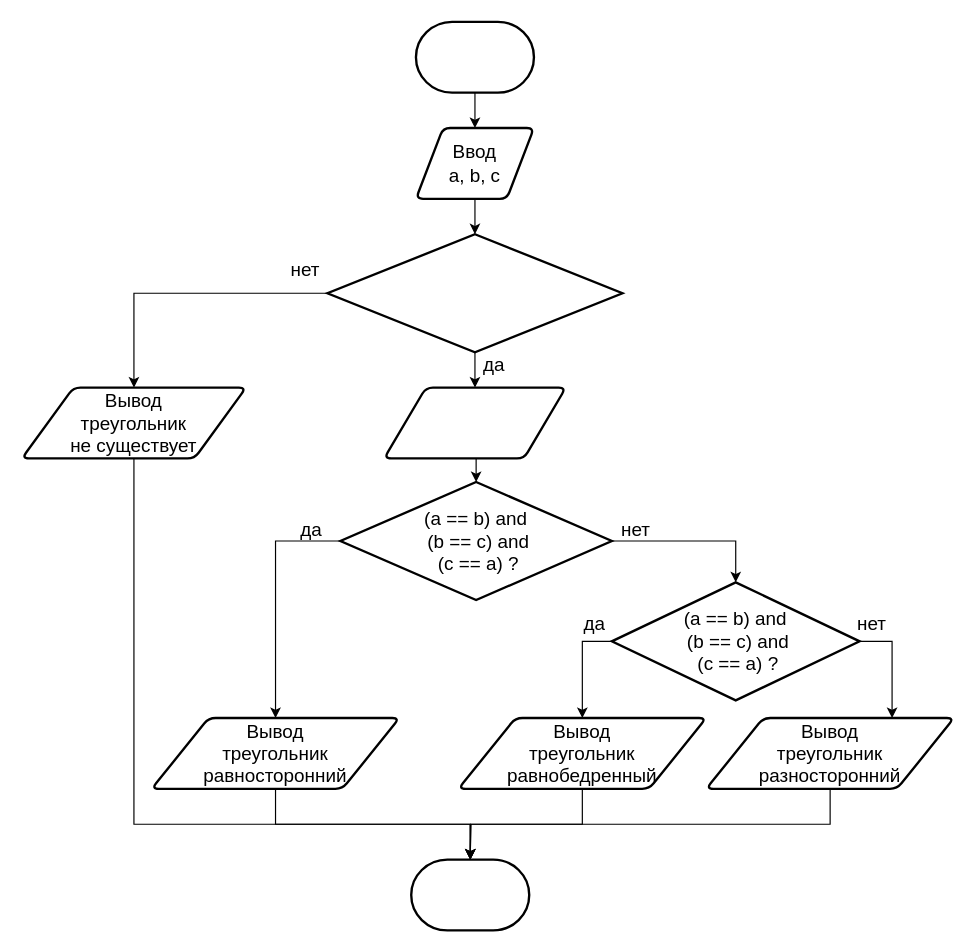
Image size: 975x951. Some labels were removed from this diagram. The centre of each missing label's shape, as x and y in pixels:
"((a + b) > c) and ((b + c) > a) and ((c + a) > b) ?" goes at pixel 474 292.
"Вывод треугольник существует" goes at pixel 474 422.
"Конец" goes at pixel 469 894.
"Начало" goes at pixel 474 56.
